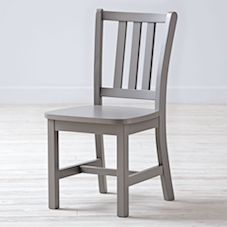chair: (25, 10, 184, 214)
